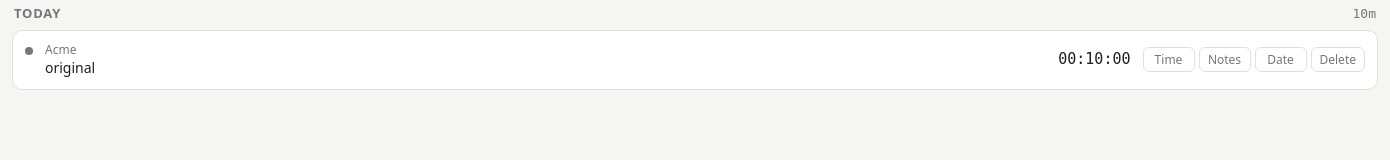
DayList duration editing › opens prefilled as h:mm:ss
Click the button titled "Edit duration". click: {"x": 1094, "y": 60}
box: x1=1058 y1=49 x2=1131 y2=71
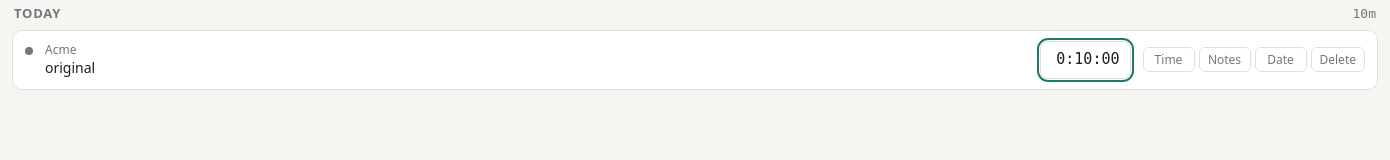
Result: the field named "Duration" holds "0:10:00" at x1=1040 y1=41 x2=1130 y2=79
